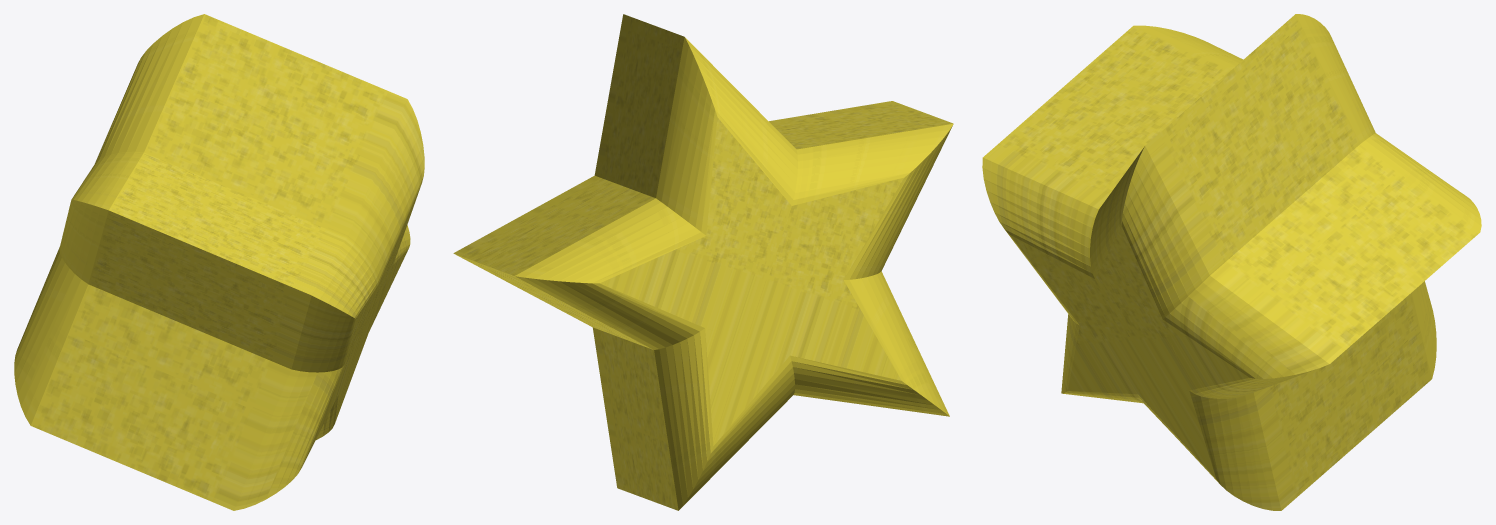
The model's file is starfruit.glb.
3 views of the same model, side by side, from view 1: azimuth 30°, elevation 25°; view 2: azimuth 150°, elevation 25°; view 3: azimuth 270°, elevation 25° (orthographic). The views are drawn at different scales.
Bounding box in the file's own units: 0.1116 × 0.1148 × 0.1125.
1 material, 1 textured.
